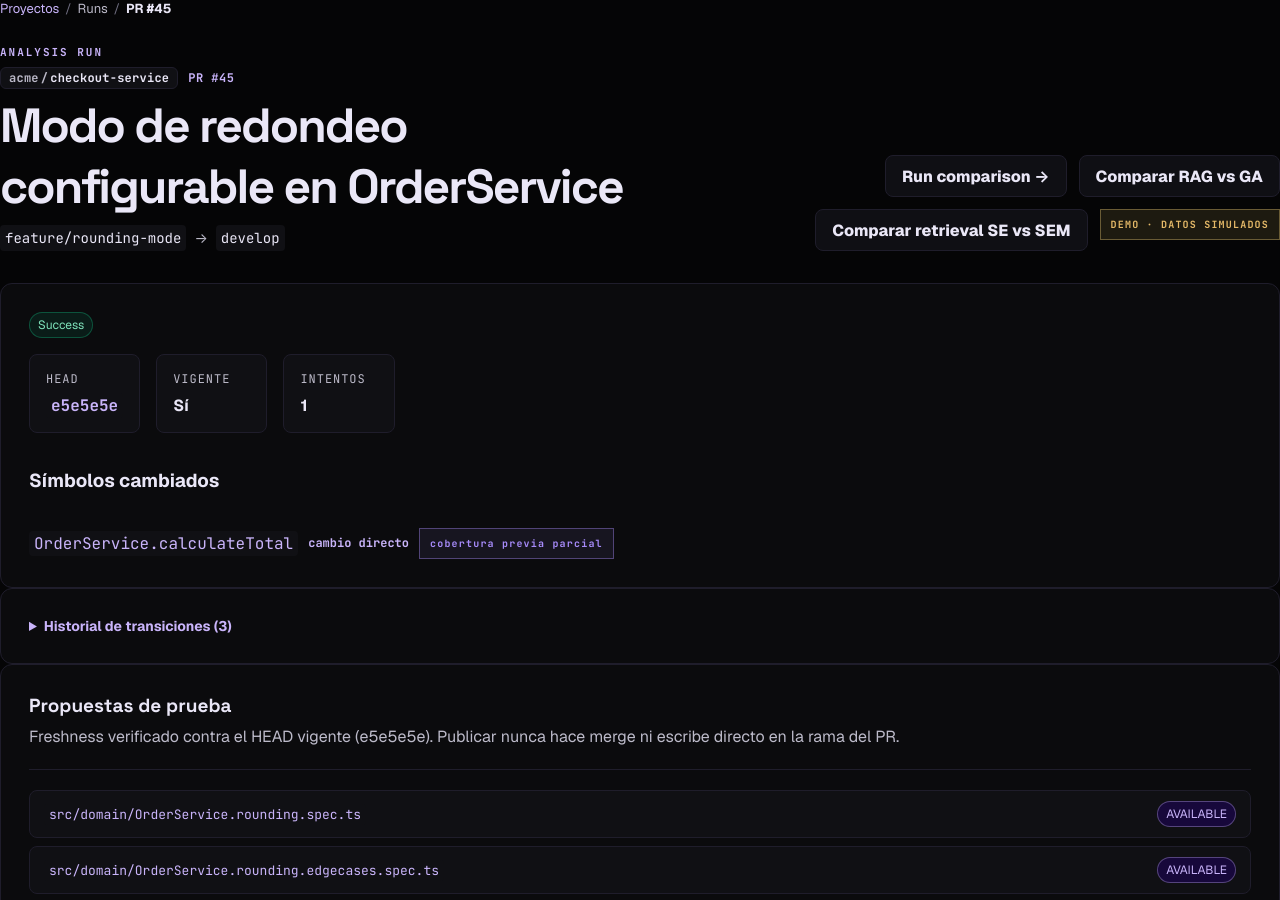
Test: HU53 (INTEROP-2.1 §6.10, definido/no implementado): el historial de transiciones se puede expandir
This screenshot has width=1280, height=900.
Click the heading "Historial de transiciones (3)" at (138, 626), box x1=44 y1=617 x2=232 y2=635
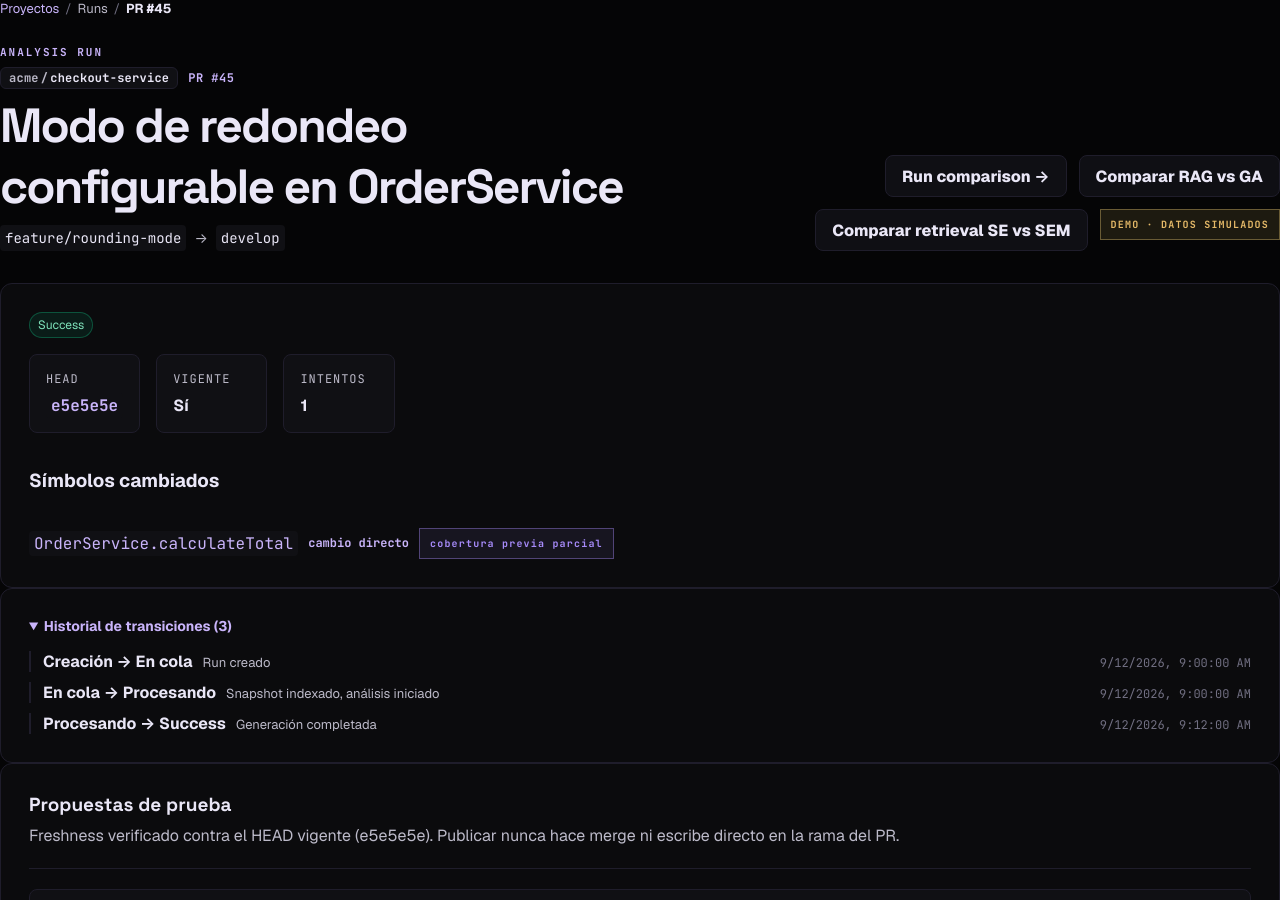
Expected: the text "Run creado" is shown, x1=203 y1=654 x2=270 y2=671
Expected: the text "Snapshot indexado, análisis iniciado" is shown, x1=226 y1=685 x2=440 y2=702
Expected: the text "Generación completada" is shown, x1=236 y1=716 x2=377 y2=733
